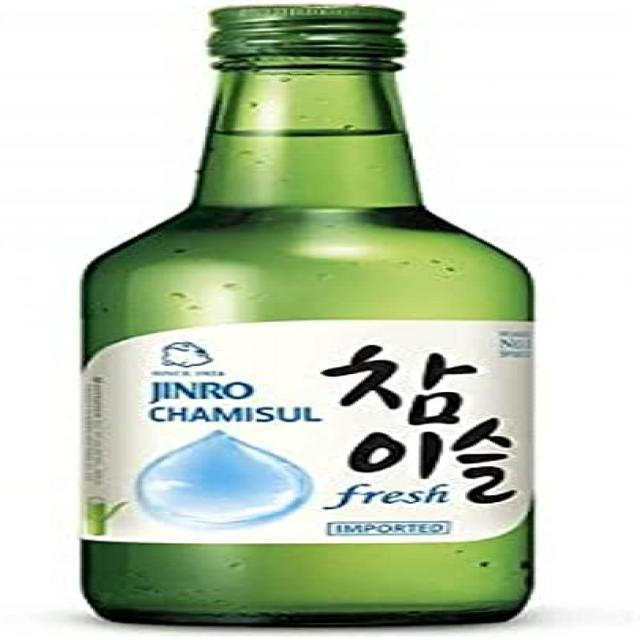soju-bottle: (68, 5, 540, 631)
